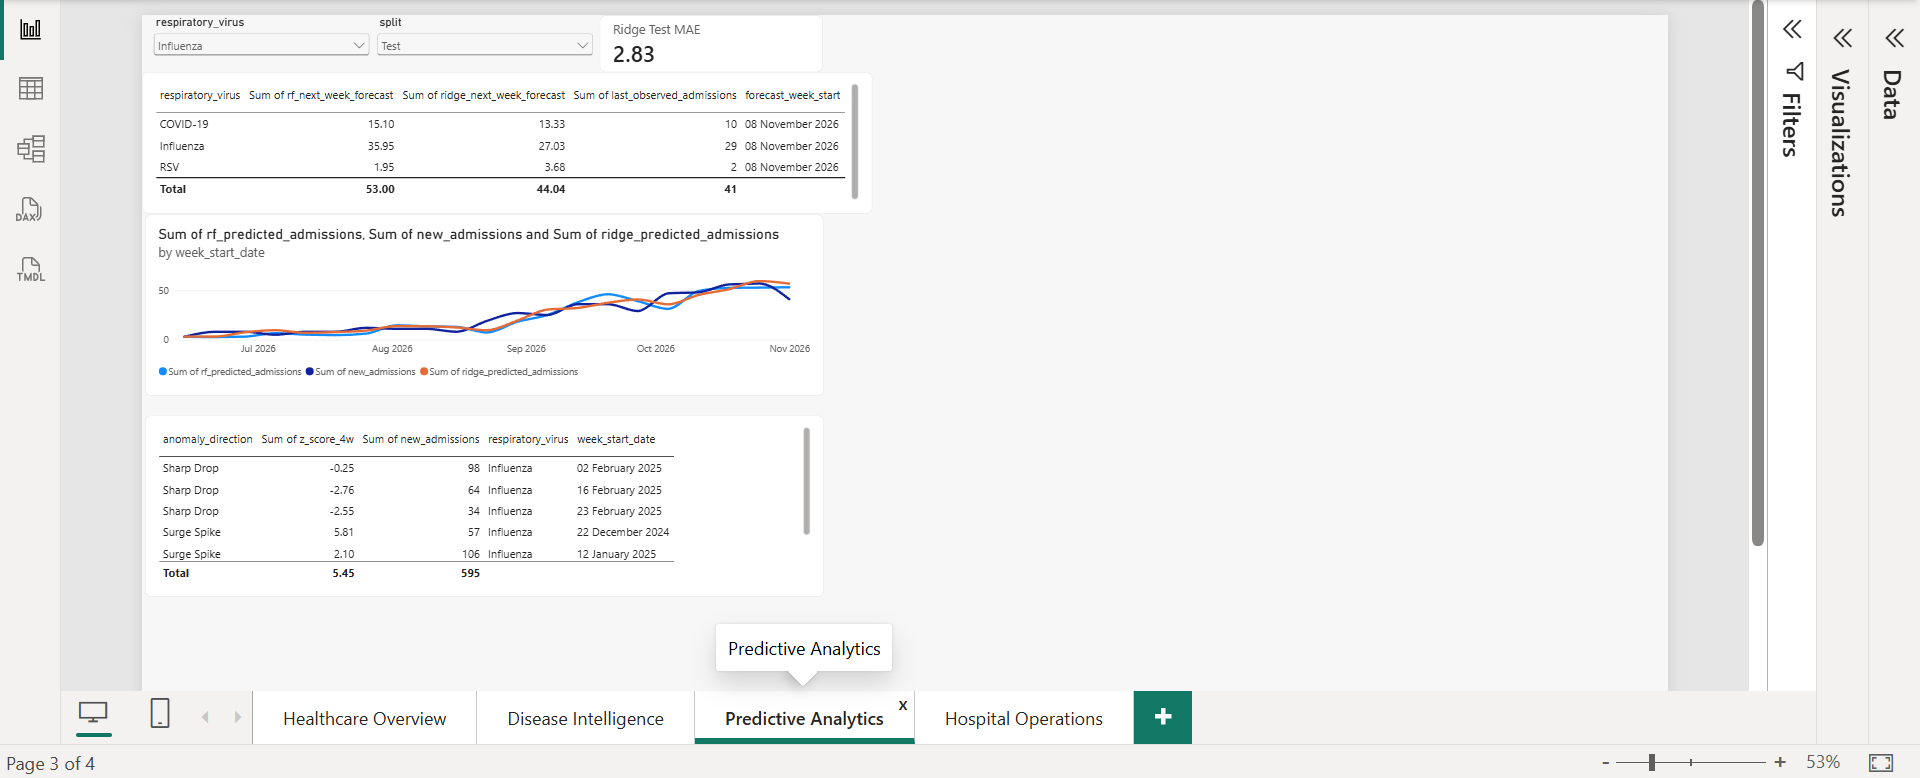

The page's visual inventory and layout, read from the dashboard file:
{"tool":"powerbi","page":{"name":"Predictive Analytics","canvas":[1920,1080],"ordinal":2},"visuals":[{"type":"slicer","fields":{"Values":["pbi_sf_respiratory_fact.respiratory_virus"]},"box":[9.3,0,281.5,111.1],"z":0},{"type":"slicer","fields":{"Values":["pbi_ml_forecasts.split"]},"box":[290.7,0,281.5,100],"z":1},{"type":"cardVisual","fields":{"Data":["pbi_ml_forecasts.Ridge Test MAE"]},"box":[575.9,0,281.5,72.2],"z":2},{"type":"tableEx","fields":{"Values":["pbi_ml_next_week.respiratory_virus","Sum(pbi_ml_next_week.rf_next_week_forecast)","Sum(pbi_ml_next_week.ridge_next_week_forecast)","Sum(pbi_ml_next_week.last_observed_admissions)","pbi_ml_next_week.forecast_week_start"]},"box":[0,72.2,918.5,177.8],"z":3},{"type":"lineChart","fields":{"Category":["pbi_ml_forecasts.week_start_date"],"Y":["Sum(pbi_ml_forecasts.rf_predicted_admissions)","Sum(pbi_ml_forecasts.new_admissions)","Sum(pbi_ml_forecasts.ridge_predicted_admissions)"]},"box":[3.7,250,853.7,227.8],"z":4},{"type":"tableEx","fields":{"Values":["pbi_sf_respiratory_fact.anomaly_direction","Sum(pbi_sf_respiratory_fact.z_score_4w)","Sum(pbi_sf_respiratory_fact.new_admissions)","pbi_sf_respiratory_fact.respiratory_virus","pbi_sf_respiratory_fact.week_start_date"]},"box":[4,504,854,228],"z":5}]}

Visuals, with their boxes on the page's 1920x1080 design canvas (x1, y1, x2, y2). These are canvas units, not pixel positions in the 1920x778 screenshot, which may show the page scaled, cropped or inside an application window:
slicer - pbi_sf_respiratory_fact.respiratory_virus: x1=9 y1=0 x2=291 y2=111
slicer - pbi_ml_forecasts.split: x1=291 y1=0 x2=572 y2=100
cardVisual - pbi_ml_forecasts.Ridge Test MAE: x1=576 y1=0 x2=857 y2=72
tableEx - pbi_ml_next_week.respiratory_virus x Sum(pbi_ml_next_week.rf_next_week_forecast): x1=0 y1=72 x2=918 y2=250
lineChart - pbi_ml_forecasts.week_start_date x Sum(pbi_ml_forecasts.rf_predicted_admissions): x1=4 y1=250 x2=857 y2=478
tableEx - pbi_sf_respiratory_fact.anomaly_direction x Sum(pbi_sf_respiratory_fact.z_score_4w): x1=4 y1=504 x2=858 y2=732
